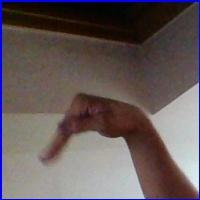del: (33, 87, 152, 171)
